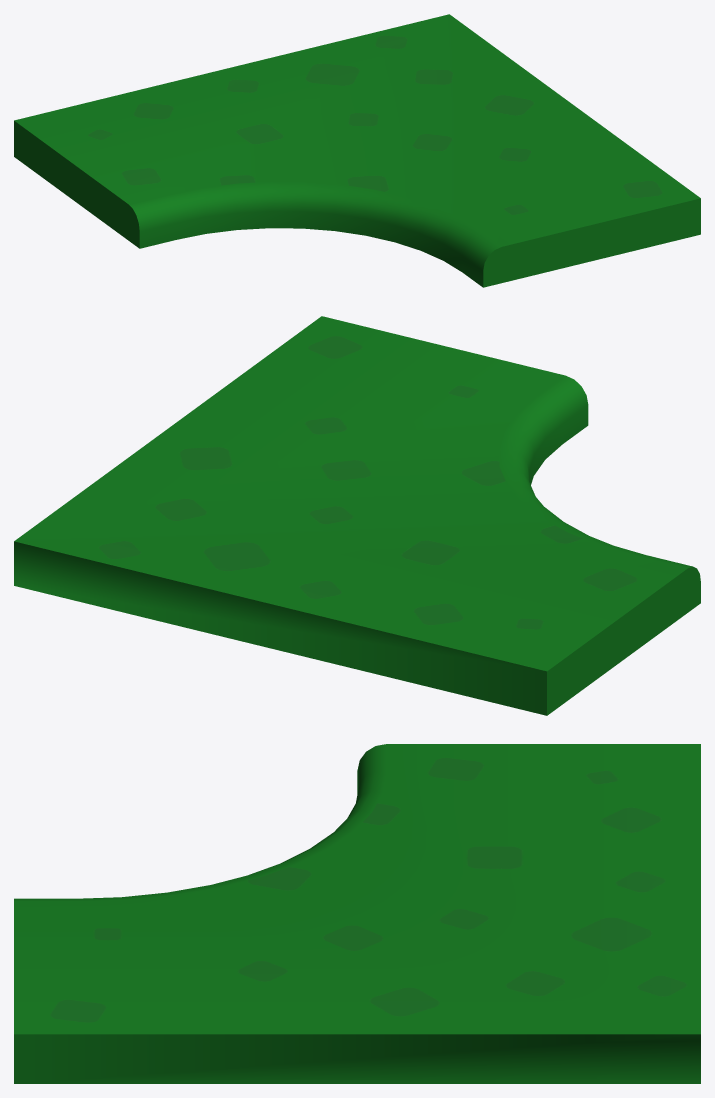
File: GF_ICorner_2_3.glb
The picture shows the model from 3 angles, top to bottom: view 1: azimuth 30°, elevation 25°; view 2: azimuth 150°, elevation 25°; view 3: azimuth 270°, elevation 25°; orthographic projection. The views are drawn at different scales.
Visible parts, largest first — view 1: GF_ICorner_2_3; view 2: GF_ICorner_2_3; view 3: GF_ICorner_2_3.
Part boxes in pixels (x1,y1,x2,y2): GF_ICorner_2_3: (14, 14, 700, 287); GF_ICorner_2_3: (14, 316, 700, 715); GF_ICorner_2_3: (14, 744, 700, 1083).
Bounding box in the file's own units: 4 × 0.3187 × 4.
1 material, 1 textured.
